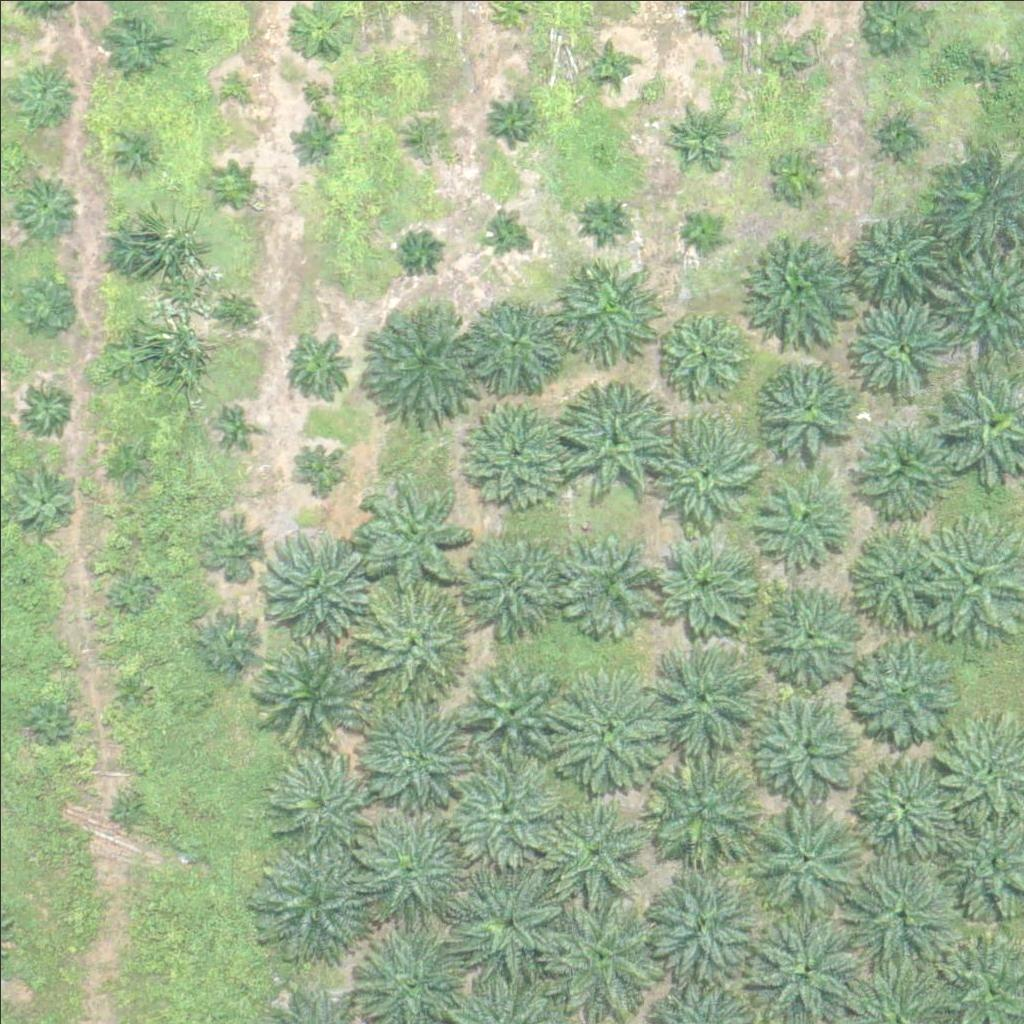Kelapa_Sawit: (837, 854, 962, 980), (841, 747, 966, 873), (845, 626, 970, 752), (743, 676, 868, 802), (743, 793, 868, 919), (637, 746, 762, 872), (638, 630, 763, 756), (540, 890, 665, 1016), (450, 856, 575, 982), (442, 734, 567, 860), (355, 683, 480, 809), (347, 797, 472, 923), (254, 835, 379, 961), (243, 615, 368, 741), (549, 376, 674, 502), (641, 410, 766, 536), (637, 860, 762, 985), (542, 664, 667, 789), (353, 296, 478, 421), (744, 226, 857, 340), (353, 481, 466, 594), (464, 395, 577, 508), (844, 296, 956, 410), (257, 521, 369, 634), (353, 586, 465, 699), (556, 245, 668, 358), (542, 797, 642, 898), (268, 745, 368, 846), (467, 296, 567, 397), (461, 531, 561, 632), (562, 532, 662, 633), (652, 529, 752, 630), (653, 302, 753, 403), (764, 582, 864, 683), (752, 466, 852, 567), (850, 533, 950, 634), (760, 358, 860, 458), (847, 419, 947, 519), (850, 211, 938, 299), (470, 661, 557, 750), (11, 265, 86, 341), (279, 330, 354, 405), (14, 57, 77, 120), (673, 97, 736, 160), (767, 143, 830, 206), (101, 14, 164, 77), (100, 214, 163, 277), (204, 515, 267, 578), (194, 613, 257, 676), (756, 26, 819, 89), (16, 173, 78, 236), (15, 471, 77, 534), (960, 39, 1022, 102), (109, 122, 159, 173), (290, 437, 340, 488), (102, 328, 152, 379), (879, 109, 929, 160), (579, 195, 629, 245), (485, 97, 535, 147), (20, 382, 70, 432), (289, 118, 339, 168), (678, 200, 728, 250), (207, 165, 245, 203), (400, 237, 438, 275), (114, 574, 152, 612), (110, 672, 148, 710), (109, 791, 147, 829), (107, 448, 145, 486), (214, 64, 252, 102), (589, 46, 627, 84), (484, 211, 521, 249), (29, 698, 66, 736), (407, 113, 444, 151), (217, 404, 254, 441), (213, 294, 250, 331), (10, 561, 35, 586)
